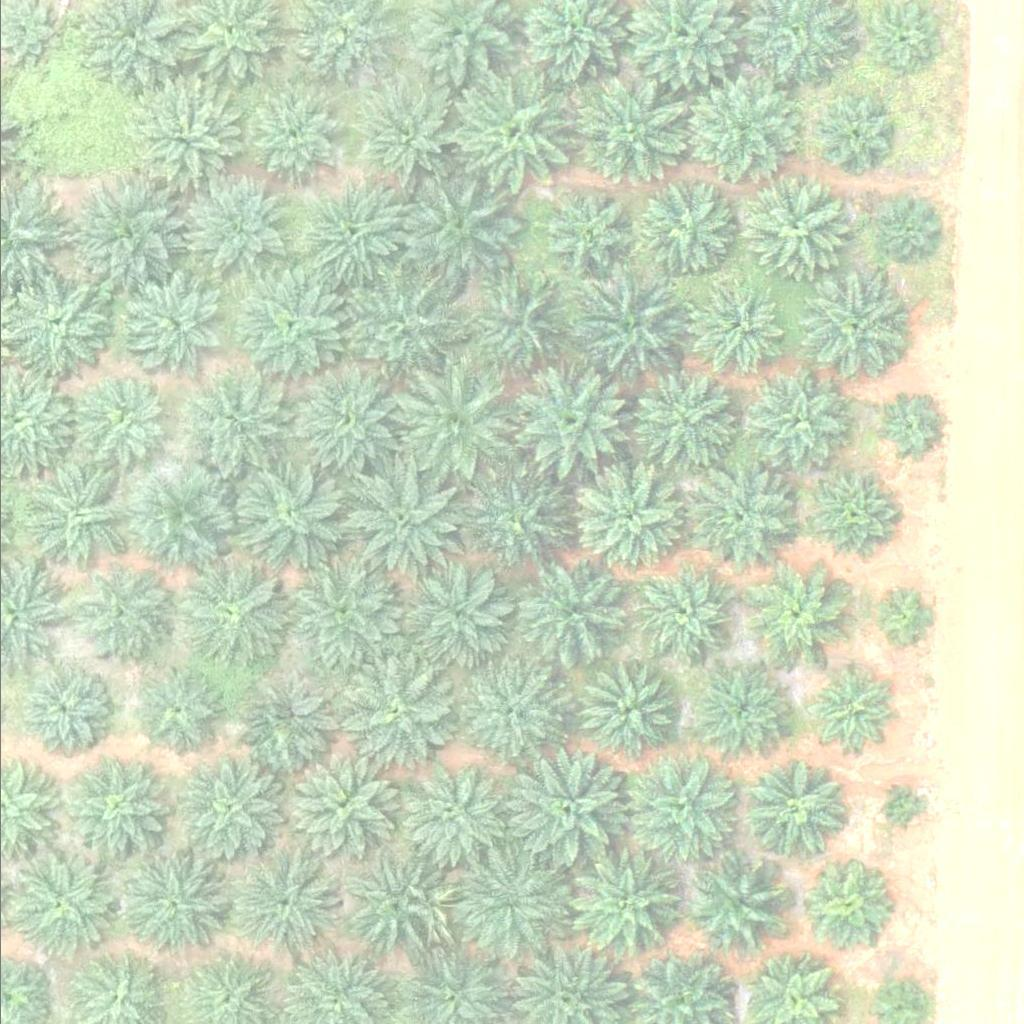Kelapa_Sawit: (564, 70, 690, 195), (449, 69, 575, 194), (393, 165, 519, 290), (573, 261, 699, 386), (454, 260, 580, 385), (338, 260, 464, 385), (504, 361, 630, 486), (386, 359, 512, 484), (338, 456, 464, 581), (500, 744, 626, 869), (443, 837, 569, 962), (224, 452, 350, 577), (284, 359, 410, 484), (227, 262, 353, 387), (562, 457, 687, 582), (331, 647, 456, 772), (282, 554, 407, 679), (169, 554, 294, 679), (564, 847, 678, 960), (75, 180, 189, 293), (684, 73, 797, 186), (115, 852, 228, 965), (2, 849, 115, 962), (15, 459, 128, 572), (121, 83, 234, 196), (348, 81, 462, 193), (108, 267, 222, 379), (1, 268, 115, 380), (630, 753, 743, 865), (394, 756, 507, 868), (345, 846, 458, 958), (232, 848, 345, 960), (746, 178, 847, 278), (631, 177, 732, 277), (805, 280, 906, 380), (684, 274, 785, 374), (748, 371, 849, 471), (636, 371, 737, 471), (691, 466, 792, 566), (464, 474, 565, 574), (744, 568, 845, 668), (629, 563, 730, 663), (515, 564, 616, 664), (411, 568, 512, 668), (692, 660, 793, 760), (576, 662, 677, 762), (460, 659, 561, 759), (288, 756, 389, 856), (174, 760, 275, 860), (63, 754, 164, 854), (237, 668, 338, 768), (69, 565, 170, 665), (128, 468, 229, 568), (185, 377, 286, 477), (536, 184, 636, 284), (748, 760, 848, 860), (690, 855, 790, 955), (305, 183, 405, 283), (184, 174, 284, 274), (238, 81, 338, 181), (129, 665, 218, 753), (805, 665, 893, 753), (18, 662, 106, 750), (808, 477, 896, 564), (796, 864, 884, 951), (77, 378, 165, 465), (816, 97, 891, 172), (874, 198, 937, 261), (876, 398, 939, 460), (875, 584, 938, 646), (880, 791, 918, 828)
